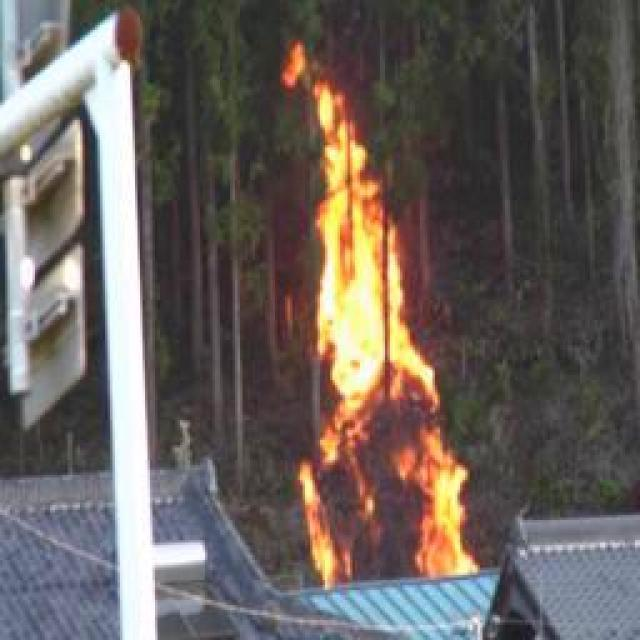Fire: (299, 58, 475, 589)
